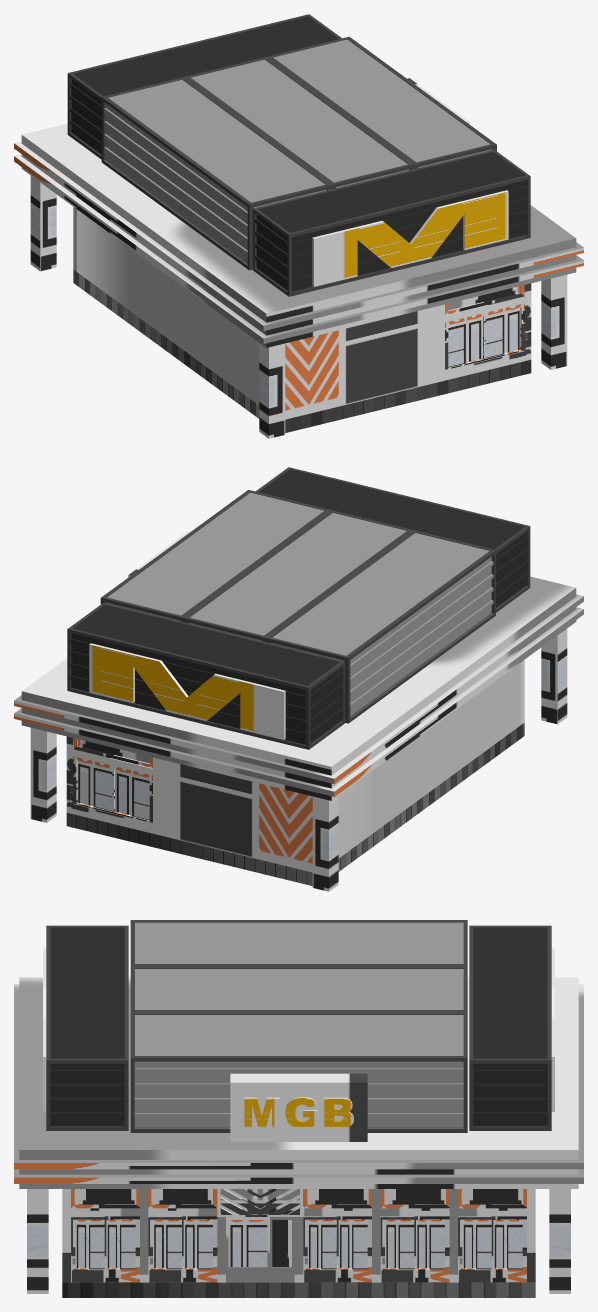
File: 0130餐廳優化.fbx
3 renders of one model, top to bottom at view 1: azimuth 30°, elevation 25°; view 2: azimuth 150°, elevation 25°; view 3: azimuth 270°, elevation 25°, orthographic. The views are drawn at different scales.
Visible parts, largest first — view 1: 貨櫃箱, 屋頂, 左側牆, 造型牆.002, 室內地板.006, 室內地板.002; view 2: 貨櫃箱, 屋頂, 右側牆, 造型牆.002, 室內地板.006, 室內地板.002; view 3: 貨櫃箱, 屋頂, 正門指示牌.004, 室內地板.006, 正門口, 正門指示牌.001, 右側牆, 左側牆.
Boxes of the visible parts, <box> form: 貨櫃箱: <box>67,14,530,296</box>; 屋頂: <box>14,78,583,438</box>; 左側牆: <box>285,283,531,419</box>; 造型牆.002: <box>128,247,259,405</box>; 室內地板.006: <box>73,269,531,432</box>; 室內地板.002: <box>77,209,128,309</box>; 貨櫃箱: <box>67,467,530,749</box>; 屋頂: <box>14,531,583,891</box>; 右側牆: <box>66,736,312,872</box>; 造型牆.002: <box>373,662,520,832</box>; 室內地板.006: <box>66,722,524,885</box>; 室內地板.002: <box>338,771,372,858</box>; 貨櫃箱: <box>46,920,551,1132</box>; 屋頂: <box>14,948,583,1293</box>; 正門指示牌.004: <box>71,1189,526,1282</box>; 室內地板.006: <box>62,1282,535,1297</box>; 正門口: <box>226,1217,269,1282</box>; 正門指示牌.001: <box>270,1217,294,1282</box>; 右側牆: <box>527,1189,535,1282</box>; 左側牆: <box>62,1189,70,1282</box>.
Size of the model in its own units: 1966 by 1218 by 2651.
